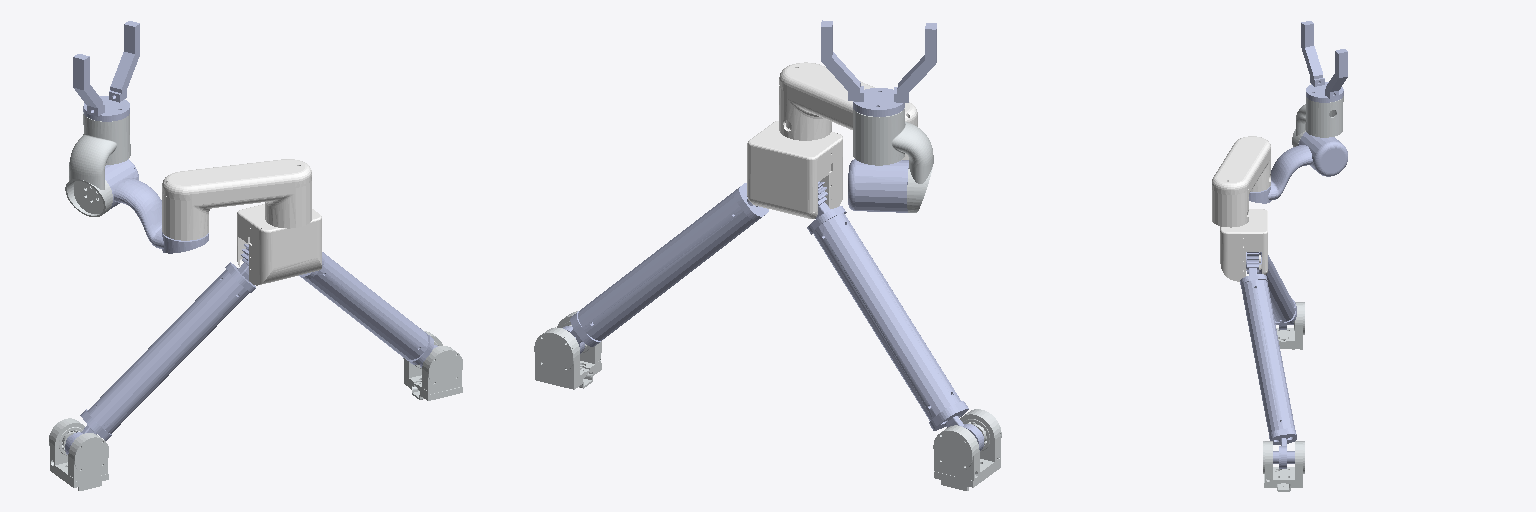
robot.urdf — arm12:
<?xml version="1.0" encoding="utf-8" ?>
<!-- This URDF was automatically created by SolidWorks to URDF Exporter! Originally created by [author] ([email redacted]) 
     Commit Version: 1.6.0-4-g7f85cfe  Build Version: 1.6.7995.38578
     For more information, please see http://wiki.ros.org/sw_urdf_exporter -->
<robot name="arm12">
    <link name="rotated_base" />
    <joint name="rot_to_base" type="fixed">
        <parent link="rotated_base" />
        <child link="base_link" />
        <origin xyz="0 0 0" rpy="0 3.14 0" />
    </joint>
    <link name="base_link">
        <inertial>
            <origin xyz="-0.114741653388133 -0.00394836028883594 -0.0536105920933669" rpy="0 0 0" />
            <mass value="2.63443753992699" />
            <inertia ixx="0.00189567328668365" ixy="7.29873865389891E-06" ixz="0.000140090900098037" iyy="0.158992383742472" iyz="1.36209227842431E-06" izz="0.158257846821755" />
        </inertial>
        <visual>
            <origin xyz="0 0 0" rpy="0 0 0" />
            <geometry>
                <mesh filename="package://arm12/meshes/base_link.STL" />
            </geometry>
            <material name="">
                <color rgba="0.792156862745098 0.819607843137255 0.933333333333333 1" />
            </material>
        </visual>
        <collision>
            <origin xyz="0 0 0" rpy="0 0 0" />
            <geometry>
                <mesh filename="package://arm12/meshes/base_link.STL" />
            </geometry>
        </collision>
    </link>
    <link name="l1">
        <inertial>
            <origin xyz="0.403597483420043 -0.0414638574022828 0.00700359932104074" rpy="0 0 0" />
            <mass value="0.381600228345592" />
            <inertia ixx="0.000152419359459052" ixy="-1.16717541525886E-07" ixz="-4.78639401455686E-07" iyy="0.00015874224871389" iyz="3.26007402233397E-07" izz="0.000167838112577603" />
        </inertial>
        <visual>
            <origin xyz="0 0 0" rpy="0 0 0" />
            <geometry>
                <mesh filename="package://arm12/meshes/l1.STL" />
            </geometry>
            <material name="">
                <color rgba="0.898039215686275 0.917647058823529 0.929411764705882 1" />
            </material>
        </visual>
        <collision>
            <origin xyz="0 0 0" rpy="0 0 0" />
            <geometry>
                <mesh filename="package://arm12/meshes/l1.STL" />
            </geometry>
        </collision>
    </link>
    <joint name="j1" type="prismatic">
        <origin xyz="-0.79073 0.0075 -0.026676" rpy="1.5708 0 0" />
        <parent link="base_link" />
        <child link="l1" />
        <axis xyz="1 0.00024256 0" />
        <limit lower="-1" upper="1" effort="1000" velocity="1000" />
    </joint>
    <link name="l11">
        <inertial>
            <origin xyz="0.109124708134365 -0.106742142823085 0.0291269836365173" rpy="0 0 0" />
            <mass value="0.308192429361636" />
            <inertia ixx="0.00036660835632017" ixy="0.000236532188858594" ixz="-5.91891737788076E-05" iyy="0.000377052003364126" iyz="5.79126892712075E-05" izz="0.000595833629485193" />
        </inertial>
        <visual>
            <origin xyz="0 0 0" rpy="0 0 0" />
            <geometry>
                <mesh filename="package://arm12/meshes/l11.STL" />
            </geometry>
            <material name="">
                <color rgba="0.792156862745098 0.819607843137255 0.933333333333333 1" />
            </material>
        </visual>
        <collision>
            <origin xyz="0 0 0" rpy="0 0 0" />
            <geometry>
                <mesh filename="package://arm12/meshes/l11.STL" />
            </geometry>
        </collision>
    </link>
    <joint name="j11" type="continuous">
        <origin xyz="0.403574468337888 -0.0486058728976355 -0.000248553231492891" rpy="0 0 0" />
        <parent link="l1" />
        <child link="l11" />
        <axis xyz="0 0 -1" />
    </joint>
    <link name="l2">
        <inertial>
            <origin xyz="1.0157003601035 -0.0384463563381593 0.00765610841163893" rpy="0 0 0" />
            <mass value="0.51688405008029" />
            <inertia ixx="0.000289252991255811" ixy="6.16500231917276E-07" ixz="-1.38368241480024E-06" iyy="0.000291829291446418" iyz="-1.10552388292668E-06" izz="0.00026788505040365" />
        </inertial>
        <visual>
            <origin xyz="0 0 0" rpy="0 0 0" />
            <geometry>
                <mesh filename="package://arm12/meshes/l2.STL" />
            </geometry>
            <material name="">
                <color rgba="0.898039215686275 0.917647058823529 0.929411764705882 1" />
            </material>
        </visual>
        <collision>
            <origin xyz="0 0 0" rpy="0 0 0" />
            <geometry>
                <mesh filename="package://arm12/meshes/l2.STL" />
            </geometry>
        </collision>
    </link>
    <joint name="j2" type="prismatic">
        <origin xyz="-0.79073 0.0075 -0.026676" rpy="1.5708 0 0" />
        <parent link="base_link" />
        <child link="l2" />
        <axis xyz="1 0.00024256 0" />
        <limit lower="-1" upper="1" effort="1000" velocity="1000" />
    </joint>
    <link name="l3">
        <inertial>
            <origin xyz="-0.10814121670337 -0.105773126393835 0.0288760940795127" rpy="0 0 0" />
            <mass value="0.306128922940993" />
            <inertia ixx="0.000367090541907876" ixy="-0.000237220677320172" ixz="5.90721357269542E-05" iyy="0.000377593275938236" iyz="5.77716342409563E-05" izz="0.000596928132744383" />
        </inertial>
        <visual>
            <origin xyz="0 0 0" rpy="0 0 0" />
            <geometry>
                <mesh filename="package://arm12/meshes/l3.STL" />
            </geometry>
            <material name="">
                <color rgba="0.792156862745098 0.819607843137255 0.933333333333333 1" />
            </material>
        </visual>
        <collision>
            <origin xyz="0 0 0" rpy="0 0 0" />
            <geometry>
                <mesh filename="package://arm12/meshes/l3.STL" />
            </geometry>
        </collision>
    </link>
    <joint name="j3" type="continuous">
        <origin xyz="1.0158 -0.048606 -0.00024711" rpy="0 0 0" />
        <parent link="l2" />
        <child link="l3" />
        <axis xyz="0 0 -1" />
        <limit lower="1000" upper="1000" effort="1000" velocity="1000" />
    </joint>
    <link name="l4">
        <inertial>
            <origin xyz="-0.0247644704780808 -0.0233597492007901 0.033905617015353" rpy="0 0 0" />
            <mass value="0.247877954974344" />
            <inertia ixx="0.000275512262276771" ixy="-4.01235172214852E-08" ixz="5.68470398676511E-07" iyy="0.000303231827207215" iyz="4.68448608364464E-05" izz="0.000495903390975614" />
        </inertial>
        <visual>
            <origin xyz="0 0 0" rpy="0 0 0" />
            <geometry>
                <mesh filename="package://arm12/meshes/l4.STL" />
            </geometry>
            <material name="">
                <color rgba="1 1 1 1" />
            </material>
        </visual>
        <collision>
            <origin xyz="0 0 0" rpy="0 0 0" />
            <geometry>
                <mesh filename="package://arm12/meshes/l4.STL" />
            </geometry>
        </collision>
    </link>
    <joint name="j4" type="continuous">
        <origin xyz="-0.2814 -0.27508 0.049459" rpy="0 0 0" />
        <parent link="l3" />
        <child link="l4" />
        <axis xyz="0 0 1" />
        <limit lower="1000" upper="1000" effort="1000" velocity="1000" />
    </joint>
    <link name="l6">
        <inertial>
            <origin xyz="0.0835083121801821 -0.0131318490598266 -0.022315022598535" rpy="0 0 0" />
            <mass value="0.492993890644909" />
            <inertia ixx="0.000390471608455916" ixy="2.48268434817755E-06" ixz="0.000302295718302552" iyy="0.00155512945705818" iyz="-1.20122073303538E-06" izz="0.00147705952278512" />
        </inertial>
        <visual>
            <origin xyz="0 0 0" rpy="0 0 0" />
            <geometry>
                <mesh filename="package://arm12/meshes/l6.STL" />
            </geometry>
            <material name="">
                <color rgba="1 1 1 1" />
            </material>
        </visual>
        <collision>
            <origin xyz="0 0 0" rpy="0 0 0" />
            <geometry>
                <mesh filename="package://arm12/meshes/l6.STL" />
            </geometry>
        </collision>
    </link>
    <joint name="j6" type="continuous">
        <origin xyz="-0.031134 -0.097956 0.059414" rpy="0 0 0" />
        <parent link="l4" />
        <child link="l6" />
        <axis xyz="0 1 0" />
        <limit lower="1000" upper="1000" effort="1000" velocity="1000" />
    </joint>
    <link name="l7">
        <inertial>
            <origin xyz="0.0315318501806746 0.00583507478957768 -0.0817967507514115" rpy="0 0 0" />
            <mass value="0.200740625287396" />
            <inertia ixx="0.000563180696639149" ixy="8.48547014814516E-05" ixz="0.000202999903698582" iyy="0.000610313185565538" iyz="-0.000156946216691284" izz="0.000315973335029523" />
        </inertial>
        <visual>
            <origin xyz="0 0 0" rpy="0 0 0" />
            <geometry>
                <mesh filename="package://arm12/meshes/l7.STL" />
            </geometry>
            <material name="">
                <color rgba="0.792156862745098 0.819607843137255 0.933333333333333 1" />
            </material>
        </visual>
        <collision>
            <origin xyz="0 0 0" rpy="0 0 0" />
            <geometry>
                <mesh filename="package://arm12/meshes/l7.STL" />
            </geometry>
        </collision>
    </link>
    <joint name="j7" type="continuous">
        <origin xyz="0.16802 0 -0.043732" rpy="0 0 0" />
        <parent link="l6" />
        <child link="l7" />
        <axis xyz="0 1 0" />
        <limit lower="1000" upper="1000" effort="1000" velocity="1000" />
    </joint>
    <link name="l8">
        <inertial>
            <origin xyz="-0.00639785855543679 -0.105467190035519 0.0332454721635889" rpy="0 0 0" />
            <mass value="0.232745208884819" />
            <inertia ixx="0.000344329566709667" ixy="-0.000100351533357395" ixz="-3.41790292256826E-06" iyy="0.000220748774570507" iyz="9.99580236012298E-06" izz="0.000406188026813068" />
        </inertial>
        <visual>
            <origin xyz="-0.042  -0.274 0.085" rpy="0 1.57 0" />
            <geometry>
                <mesh filename="package://arm12/meshes/l8.STL" />
            </geometry>
            <material name="">
                <color rgba="0.898039215686275 0.917647058823529 0.929411764705882 1" />
            </material>
        </visual>
        <collision>
            <origin xyz="-0.042  -0.274 0.085" rpy="0 1.57 0" />
            <geometry>
                <mesh filename="package://arm12/meshes/l8.STL" />
            </geometry>
        </collision>
    </link>
    <joint name="j8" type="continuous">
        <origin xyz="0.057439 -0.0094087 -0.13" rpy="0.48 -0.47 0" />
        <parent link="l7" />
        <child link="l8" />
        <axis xyz="-1 0 0" />
        <limit lower="1000" upper="1000" effort="1000" velocity="1000" />
    </joint>
    <link name="tool0">
        <inertial>
            <origin xyz="0.0835083121801821 -0.0131318490598266 -0.022315022598535" rpy="0 0 0" />
            <mass value="0.492993890644909" />
            <inertia ixx="0.000390471608455916" ixy="2.48268434817755E-06" ixz="0.000302295718302552" iyy="0.00155512945705818" iyz="-1.20122073303538E-06" izz="0.00147705952278512" />
        </inertial>
        <visual>
            <origin xyz="-0.0773 0.042 -0.036" rpy="1.57 0 0" />
            <geometry>
                <mesh filename="package://arm12/meshes/gripper.STL" />
            </geometry>
            <material name="">
                <color rgba="0.792156862745098 0.819607843137255 0.933333333333333 1" />
            </material>
        </visual>
        <collision>
            <origin xyz="0 0 0" rpy="0 0 0 " />
            <geometry>
                <mesh filename="package://arm12/meshes/gripper.STL" />
            </geometry>
        </collision>
    </link>
    <joint name="tool0_joint" type="continuous">
        <axis xyz="0 -1 0" />
        <limit lower="1000" upper="1000" effort="1000" velocity="1000" />
        <parent link="l8" />
        <child link="tool0" />
        <origin xyz="-0.007 -0.09 0.047" rpy="-0.48 0 0" />
    </joint>
    <transmission name="trans_j1">
        <type>transmission_interface/SimpleTransmission</type>
        <joint name="j1">
            <hardwareInterface>hardware_interface/EffortJointInterface</hardwareInterface>
        </joint>
        <actuator name="j1_motor">
            <hardwareInterface>hardware_interface/EffortJointInterface</hardwareInterface>
            <mechanicalReduction>1</mechanicalReduction>
        </actuator>
    </transmission>
    <transmission name="trans_j11">
        <type>transmission_interface/SimpleTransmission</type>
        <joint name="j11">
            <hardwareInterface>hardware_interface/EffortJointInterface</hardwareInterface>
        </joint>
        <actuator name="j11_motor">
            <hardwareInterface>hardware_interface/EffortJointInterface</hardwareInterface>
            <mechanicalReduction>1</mechanicalReduction>
        </actuator>
    </transmission>
    <transmission name="trans_j2">
        <type>transmission_interface/SimpleTransmission</type>
        <joint name="j2">
            <hardwareInterface>hardware_interface/EffortJointInterface</hardwareInterface>
        </joint>
        <actuator name="j2_motor">
            <hardwareInterface>hardware_interface/EffortJointInterface</hardwareInterface>
            <mechanicalReduction>1</mechanicalReduction>
        </actuator>
    </transmission>
    <transmission name="trans_j3">
        <type>transmission_interface/SimpleTransmission</type>
        <joint name="j3">
            <hardwareInterface>hardware_interface/EffortJointInterface</hardwareInterface>
        </joint>
        <actuator name="j3_motor">
            <hardwareInterface>hardware_interface/EffortJointInterface</hardwareInterface>
            <mechanicalReduction>1</mechanicalReduction>
        </actuator>
    </transmission>
    <transmission name="trans_j4">
        <type>transmission_interface/SimpleTransmission</type>
        <joint name="j4">
            <hardwareInterface>hardware_interface/EffortJointInterface</hardwareInterface>
        </joint>
        <actuator name="j4_motor">
            <hardwareInterface>hardware_interface/EffortJointInterface</hardwareInterface>
            <mechanicalReduction>1</mechanicalReduction>
        </actuator>
    </transmission>
    <transmission name="trans_j6">
        <type>transmission_interface/SimpleTransmission</type>
        <joint name="j6">
            <hardwareInterface>hardware_interface/EffortJointInterface</hardwareInterface>
        </joint>
        <actuator name="j6_motor">
            <hardwareInterface>hardware_interface/EffortJointInterface</hardwareInterface>
            <mechanicalReduction>1</mechanicalReduction>
        </actuator>
    </transmission>
    <transmission name="trans_j7">
        <type>transmission_interface/SimpleTransmission</type>
        <joint name="j7">
            <hardwareInterface>hardware_interface/EffortJointInterface</hardwareInterface>
        </joint>
        <actuator name="j7_motor">
            <hardwareInterface>hardware_interface/EffortJointInterface</hardwareInterface>
            <mechanicalReduction>1</mechanicalReduction>
        </actuator>
    </transmission>
    <transmission name="trans_j8">
        <type>transmission_interface/SimpleTransmission</type>
        <joint name="j8">
            <hardwareInterface>hardware_interface/EffortJointInterface</hardwareInterface>
        </joint>
        <actuator name="j8_motor">
            <hardwareInterface>hardware_interface/EffortJointInterface</hardwareInterface>
            <mechanicalReduction>1</mechanicalReduction>
        </actuator>
    </transmission>
    <transmission name="trans_tool0_joint">
        <type>transmission_interface/SimpleTransmission</type>
        <joint name="tool0_joint">
            <hardwareInterface>hardware_interface/EffortJointInterface</hardwareInterface>
        </joint>
        <actuator name="tool0_joint_motor">
            <hardwareInterface>hardware_interface/EffortJointInterface</hardwareInterface>
            <mechanicalReduction>1</mechanicalReduction>
        </actuator>
    </transmission>
    <gazebo>
        <plugin name="gazebo_ros_control" filename="libgazebo_ros_control.so">
            <robotNamespace>/</robotNamespace>
        </plugin>
    </gazebo>
</robot>
<!-- <origin xyz="-0.025 -0.2 0.05" rpy="-0.35 -0.50 0"/> -->

--- Render facts (derived) ---
3 views of the same robot in one strip: view 1: azimuth 30°, elevation 25°; view 2: azimuth 150°, elevation 25°; view 3: azimuth 270°, elevation 25° (orthographic).
Robot: arm12 — 11 links, 10 joints (7 continuous, 2 prismatic, 1 fixed); root link rotated_base; default pose: all joints at 0.
Links seen in each view (by area): view 1: l6, l3, l4, l11, l8, l2, tool0, l7, l1; view 2: l3, l11, l4, l6, l8, l2, tool0, l1, l7; view 3: l11, l6, l7, l4, tool0, l8, l1, l3, l2.
Boxes of the visible links, x1,y1,x2,y2 form: l6: (162,159,311,240); l3: (65,244,255,454); l4: (237,204,321,285); l11: (299,252,437,367); l8: (65,112,130,216); l2: (49,418,108,490); tool0: (73,21,139,121); l7: (105,159,208,253); l1: (403,331,462,400); l3: (807,181,983,450); l11: (563,183,768,353); l4: (747,121,842,218); l6: (779,62,917,159); l8: (853,108,933,212); l2: (933,409,1001,490); tool0: (821,20,936,116); l1: (534,311,601,389); l7: (848,159,908,212); l11: (1240,252,1296,468); l6: (1212,136,1270,227); l7: (1249,132,1347,203); l4: (1220,209,1267,281); tool0: (1301,21,1347,102); l8: (1292,96,1343,146); l1: (1263,441,1304,491); l3: (1246,252,1296,329); l2: (1276,302,1304,349).
Size in the robot's own frame: 0.6723 by 0.2538 by 0.6744 metres.
9 mesh visuals loaded from 10 distinct referenced files (7 binary STL, 2 ASCII STL); not drawn: 1 (reference not matched to a file when rendering).